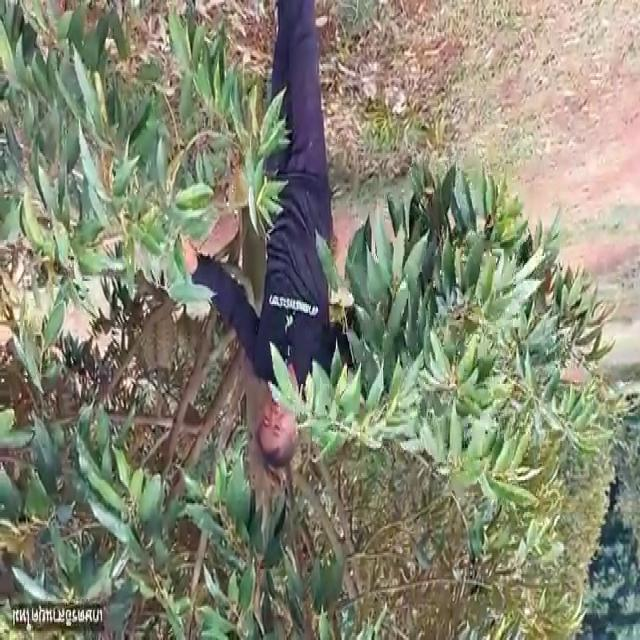durian: (139, 297, 182, 385)
